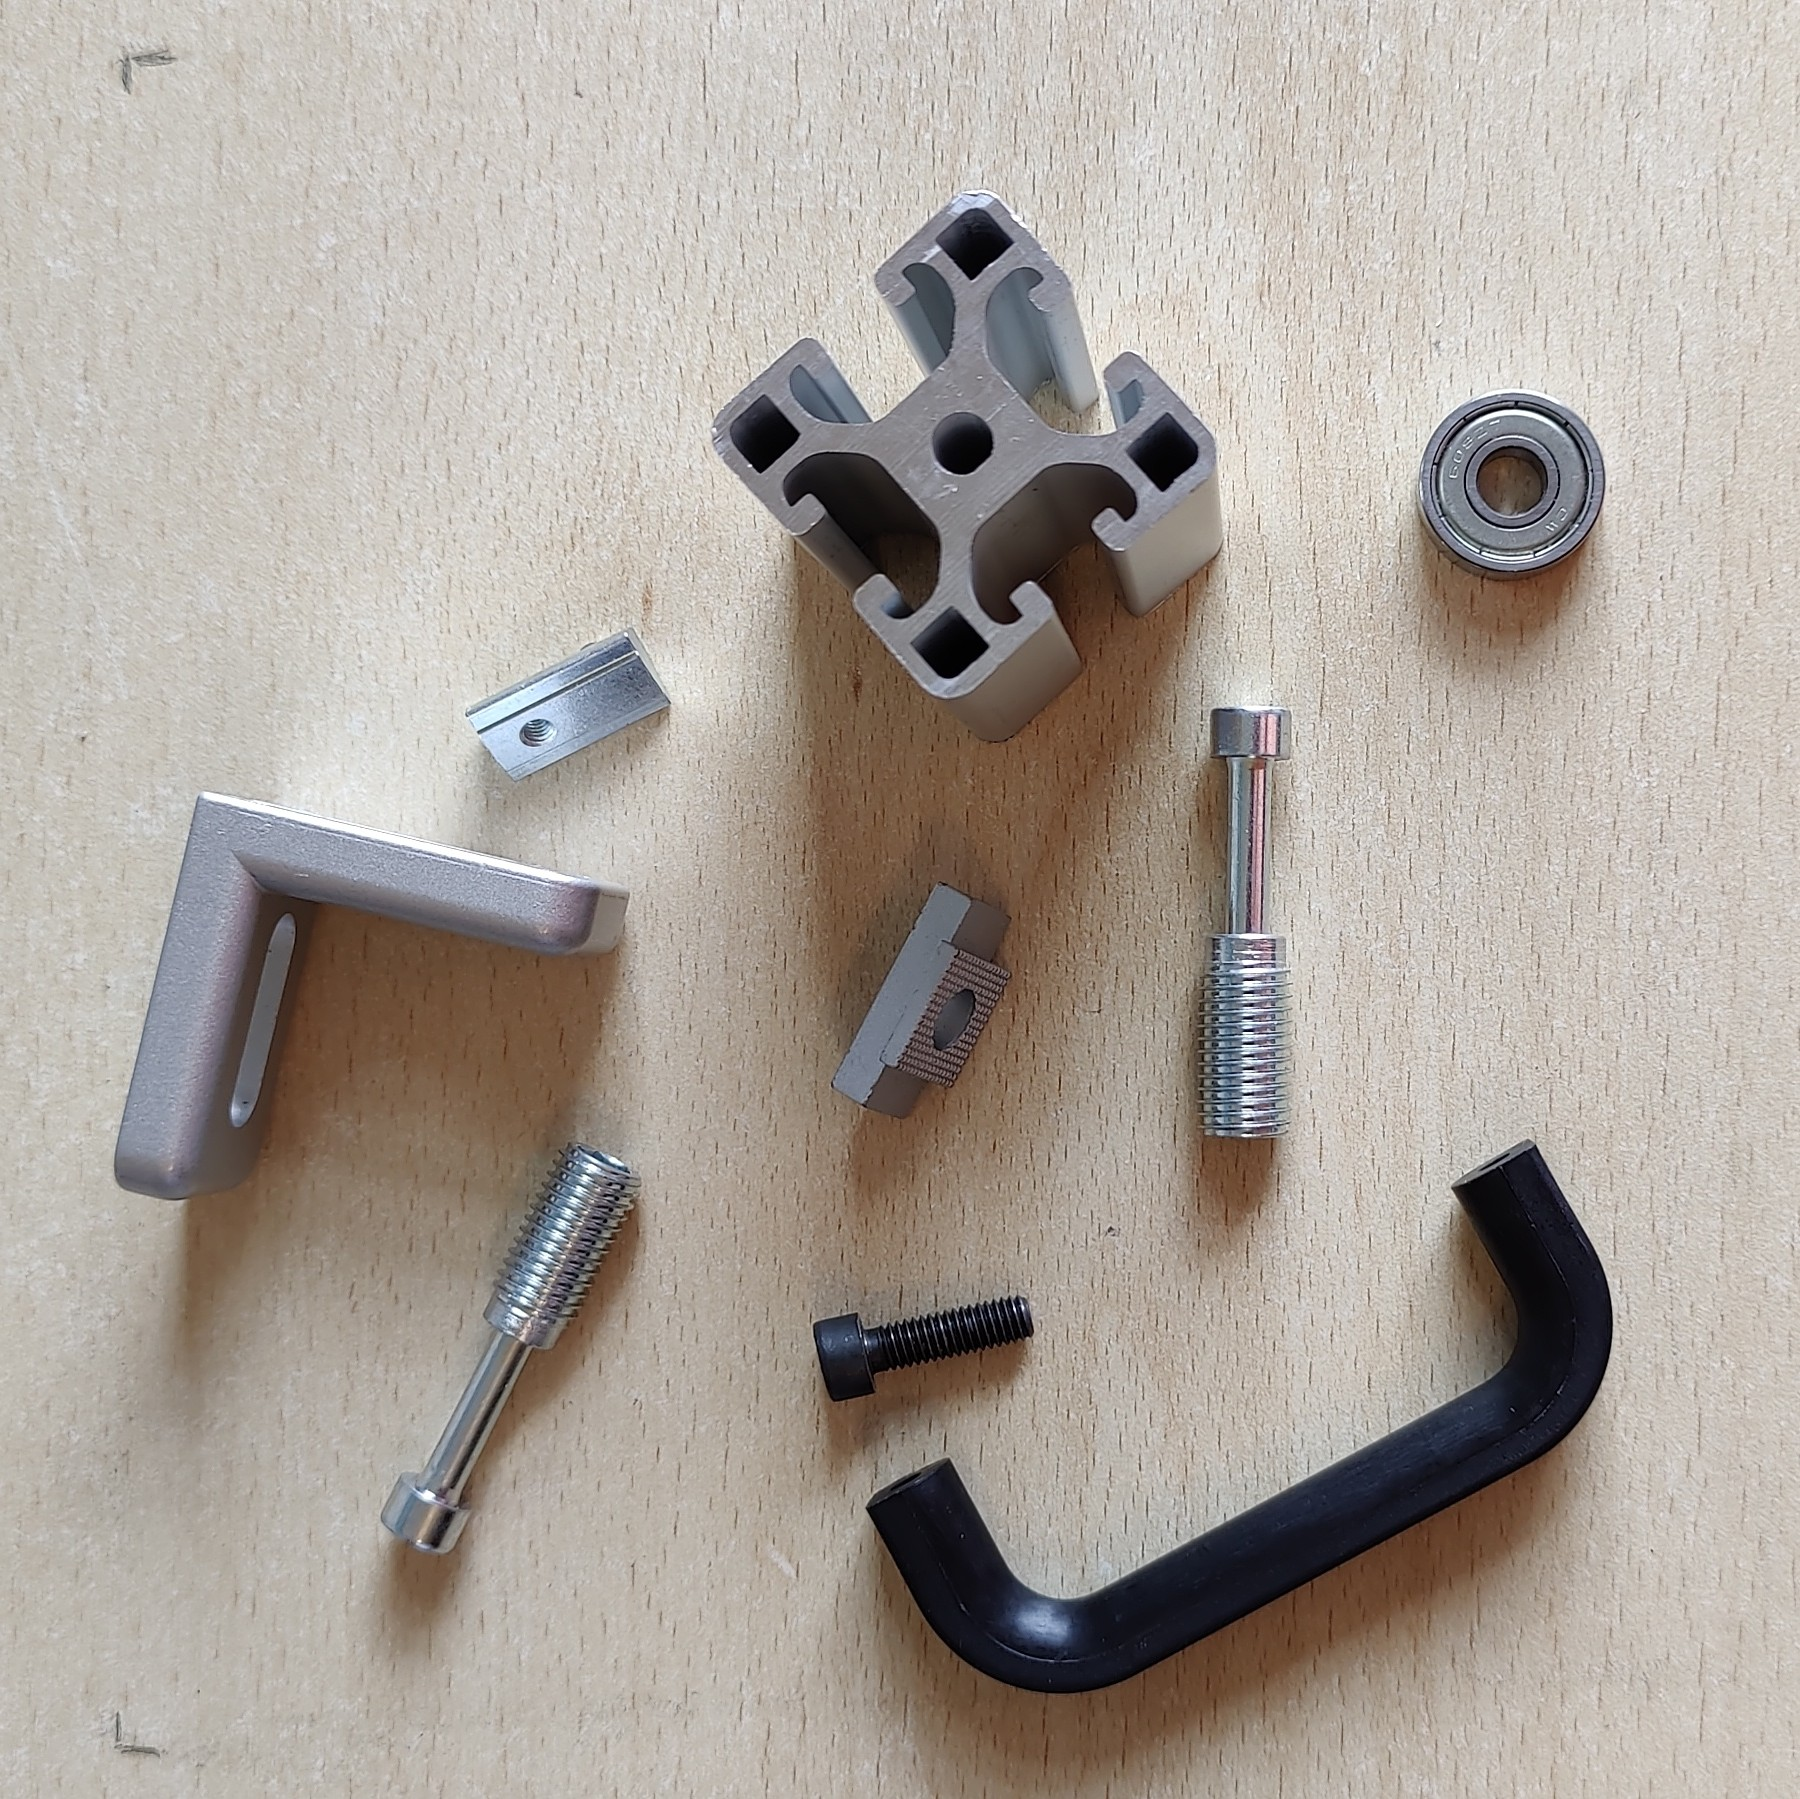Aluminium Extension: (708, 188, 1227, 745)
Ball Bearing: (1413, 389, 1609, 583)
Multiwinkel: (110, 791, 636, 1206)
Pull Handle: (861, 1137, 1616, 1699)
Shoulder Socket Head Cap Screw: (379, 1135, 642, 1558), (1194, 699, 1299, 1143)
Socket Head Cap Screw: (809, 1288, 1039, 1407)
T Nut Square: (827, 875, 1014, 1124)
T Spring Nut: (461, 626, 674, 783)
